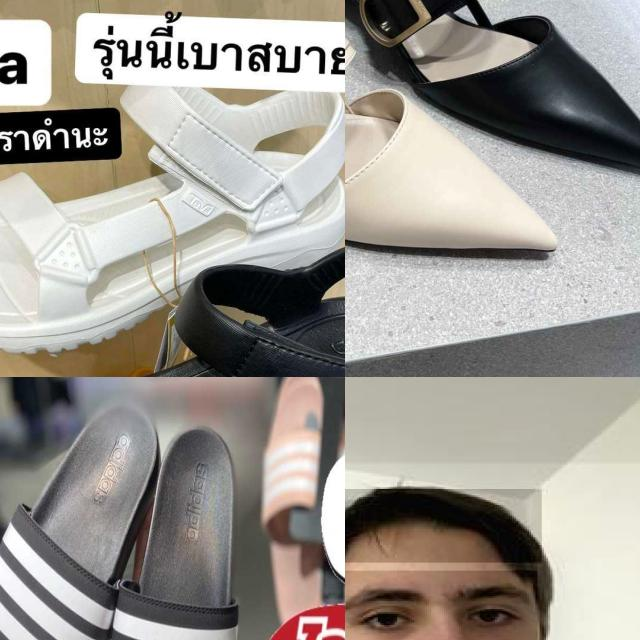No_Glasses: (345, 566, 528, 640)
Sandals: (0, 21, 345, 367), (345, 0, 593, 294), (0, 377, 236, 640), (0, 206, 345, 377), (345, 0, 640, 190)
face_nomask: (345, 570, 537, 640)
head_nohelmet: (345, 489, 542, 562)
person: (345, 463, 640, 640)
